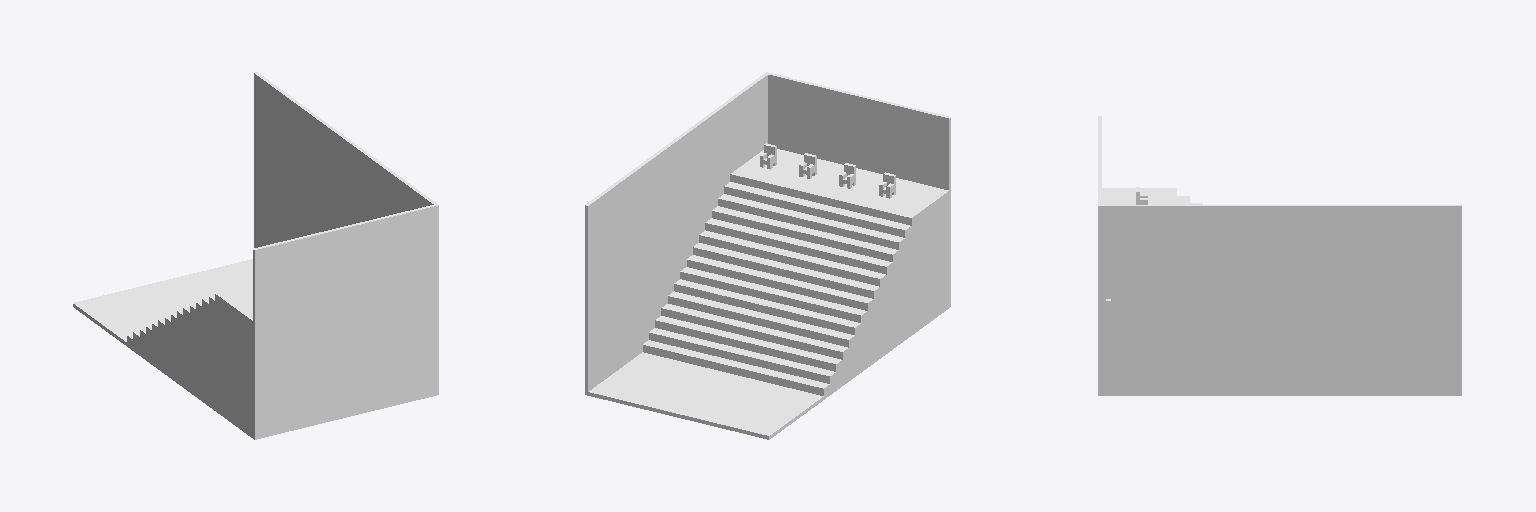
File: Throneroom.obj
3 views of the same model, side by side, from view 1: azimuth 30°, elevation 25°; view 2: azimuth 150°, elevation 25°; view 3: azimuth 270°, elevation 25° (orthographic).
Parts seen in each view (by area): view 1: throne-roomobj; view 2: throne-roomobj; view 3: throne-roomobj.
Part boxes in pixels (left/top/right/bottom): throne-roomobj: left=73, top=72, right=438, bottom=439; throne-roomobj: left=585, top=72, right=950, bottom=439; throne-roomobj: left=1098, top=116, right=1461, bottom=395.
Size of the model in its own units: 5.1 by 5 by 8.7.